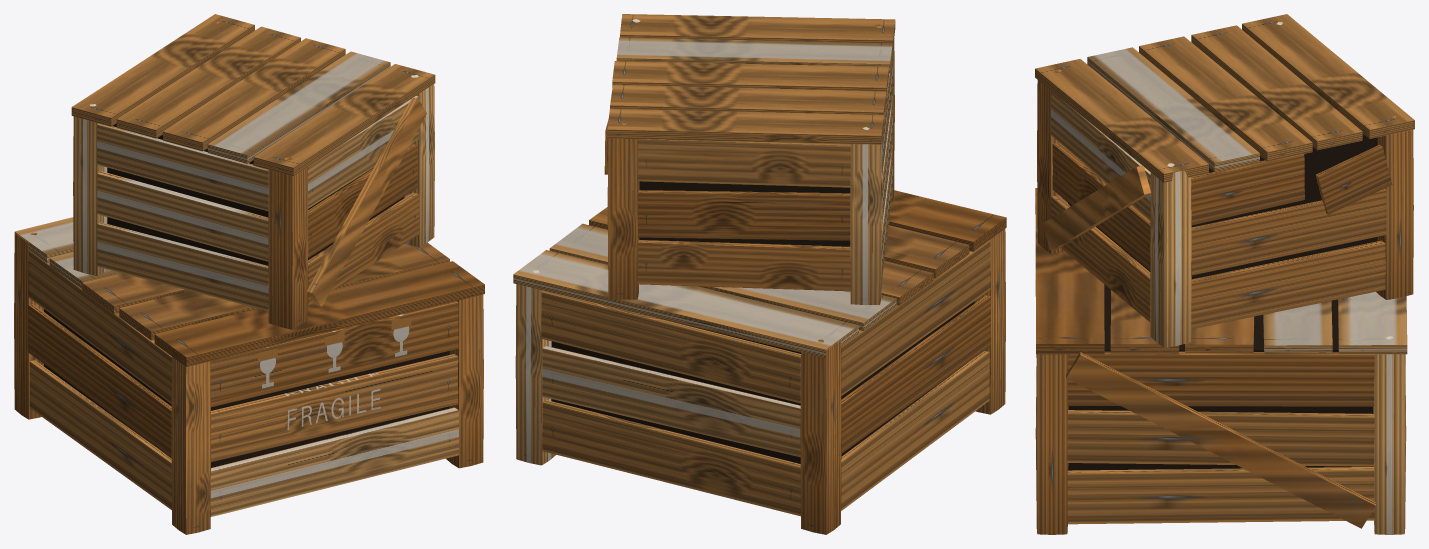
Rendered from prop_soft_crates-DM4qwjqv.glb.
3 renders of one model, left to right at view 1: azimuth 30°, elevation 25°; view 2: azimuth 150°, elevation 25°; view 3: azimuth 270°, elevation 25°, orthographic. The views are drawn at different scales.
Parts seen in each view (by area): view 1: prop_soft_crates_body; view 2: prop_soft_crates_body; view 3: prop_soft_crates_body.
Part boxes in pixels (x1=…): prop_soft_crates_body: x1=14, y1=14, x2=484, y2=534; prop_soft_crates_body: x1=513, y1=14, x2=1006, y2=534; prop_soft_crates_body: x1=1035, y1=14, x2=1414, y2=534.
Size of the model in its own units: 0.8687 by 0.9201 by 0.8609.
Materials: 1 (1 with a texture image).
